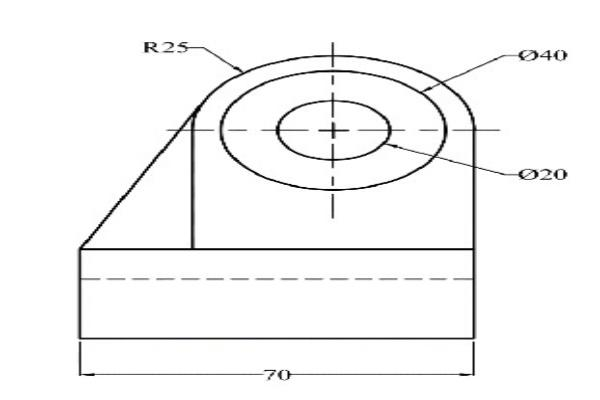dimensions: (137, 28, 191, 58), (519, 41, 571, 72), (515, 165, 573, 186), (256, 363, 293, 384)
